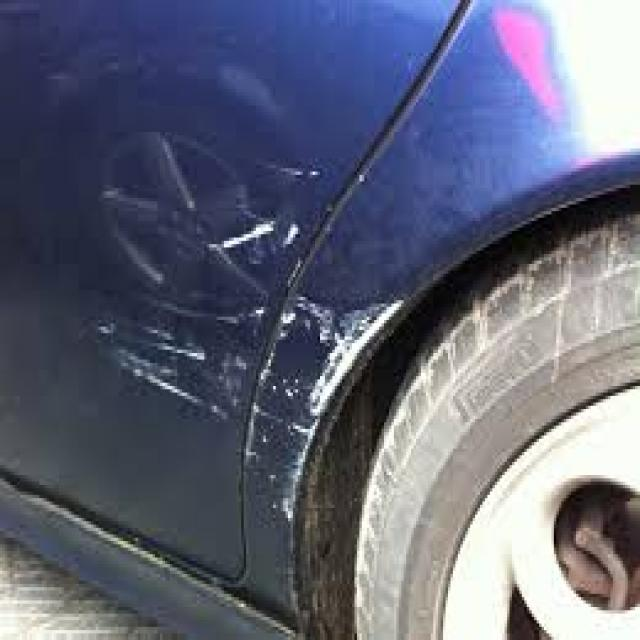minor: (74, 134, 385, 525)
